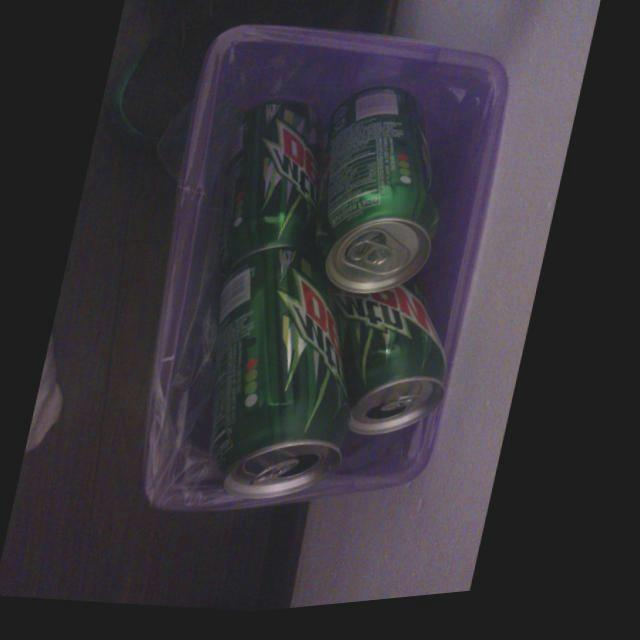aluminum: (217, 249, 356, 503), (320, 92, 443, 301), (327, 286, 453, 442), (232, 106, 323, 263)
